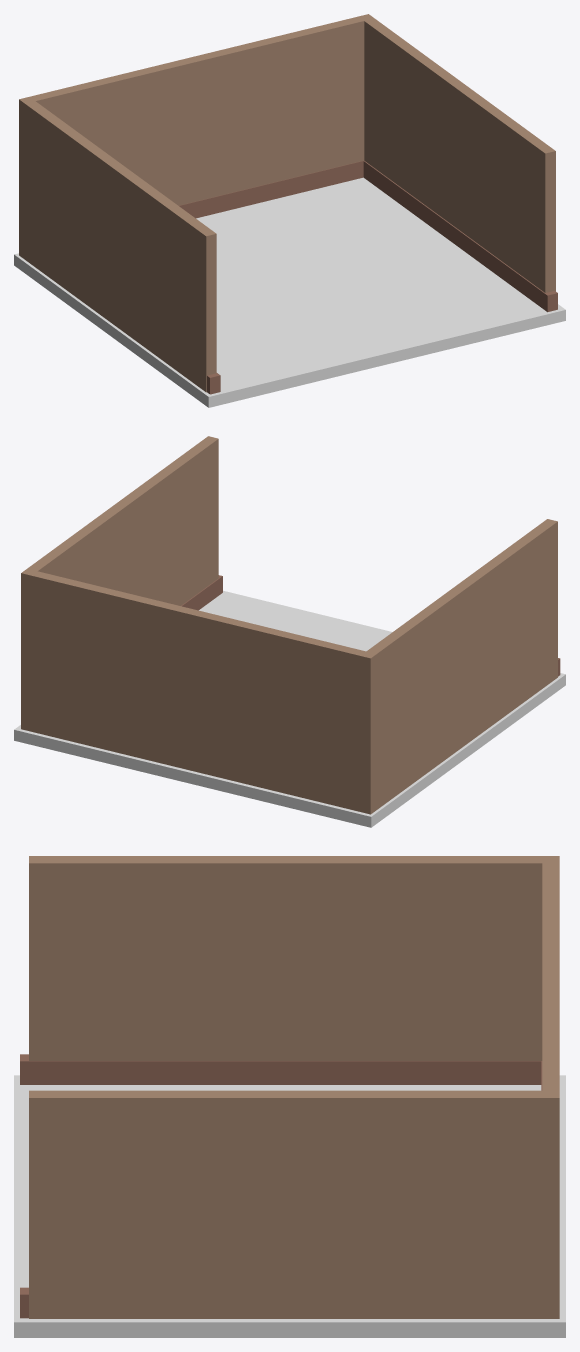
Rendered from stage5_6.fbx.
3 renders of one model, top to bottom at view 1: azimuth 30°, elevation 25°; view 2: azimuth 150°, elevation 25°; view 3: azimuth 270°, elevation 25°, orthographic. The views are drawn at different scales.
Parts seen in each view (by area): view 1: stage_level1.003; view 2: stage_level1.003; view 3: stage_level1.003.
Part boxes in pixels (box(x1,y1,x2,y2)): stage_level1.003: box(14, 14, 565, 407); stage_level1.003: box(14, 436, 565, 827); stage_level1.003: box(14, 856, 565, 1337).
Size of the model in its own units: 771 by 365 by 816.
